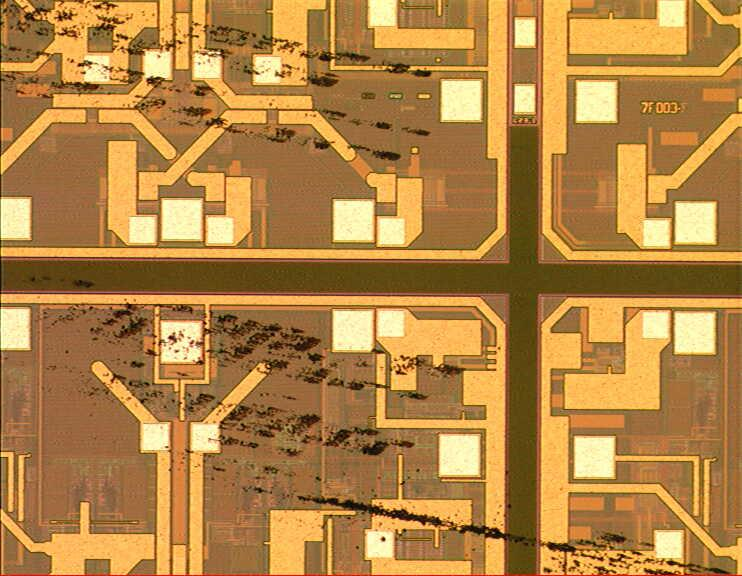SCRATCH: (1, 2, 742, 575)
